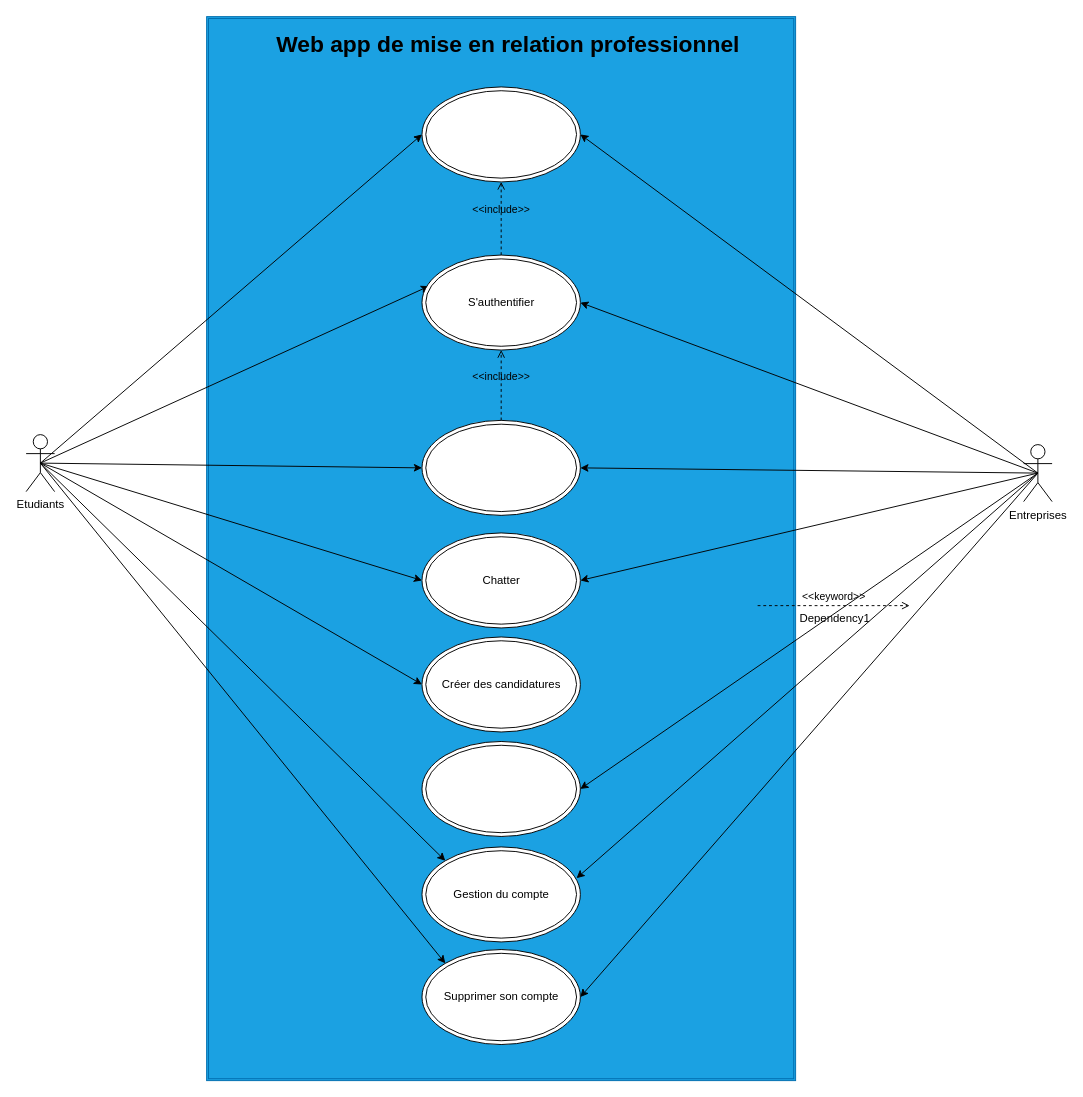
Some shapes in this 1083 by 1097 pixel diagram are drawn without their labels. The shapes that lost their labels are listed below. From the top down, each one's box as (x1, y1, x2, y2) in pixels, then its label:
(421, 86, 580, 182): Créer un compte
(421, 419, 580, 515): Trier les suggestions de annonces / candidatures
(421, 741, 580, 836): Créer des annonces (offres de stage)
